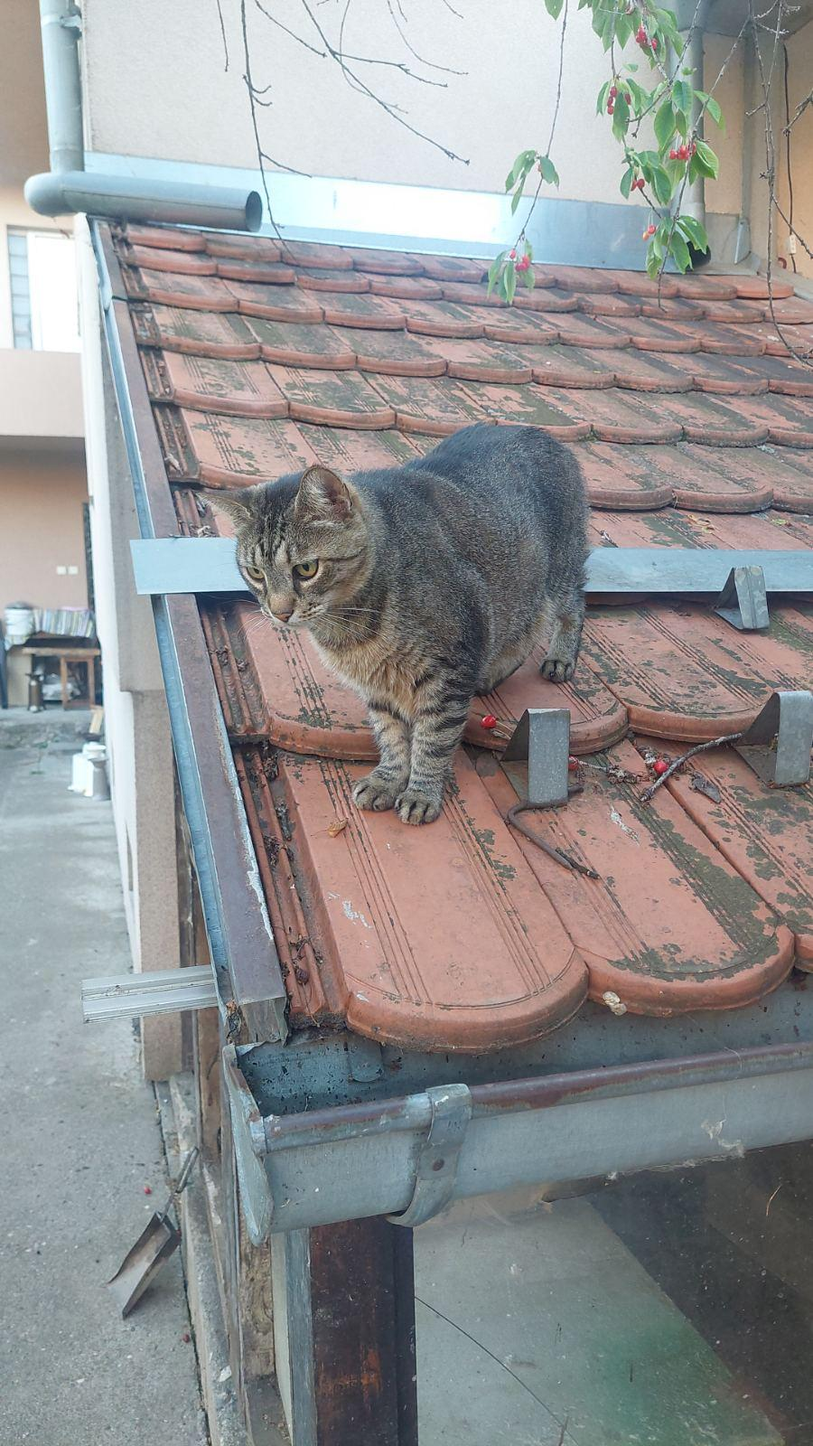macka: (199, 424, 591, 829)
